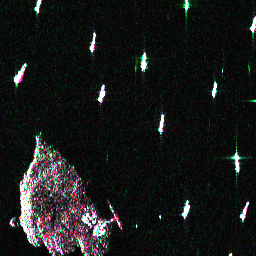ship: (11, 60, 30, 87), (237, 199, 251, 222), (179, 198, 194, 219), (87, 31, 99, 54), (95, 82, 108, 103), (138, 51, 149, 73), (232, 152, 242, 175), (156, 112, 165, 134), (209, 80, 219, 98), (248, 14, 255, 33), (33, 1, 42, 14), (182, 1, 191, 11)
